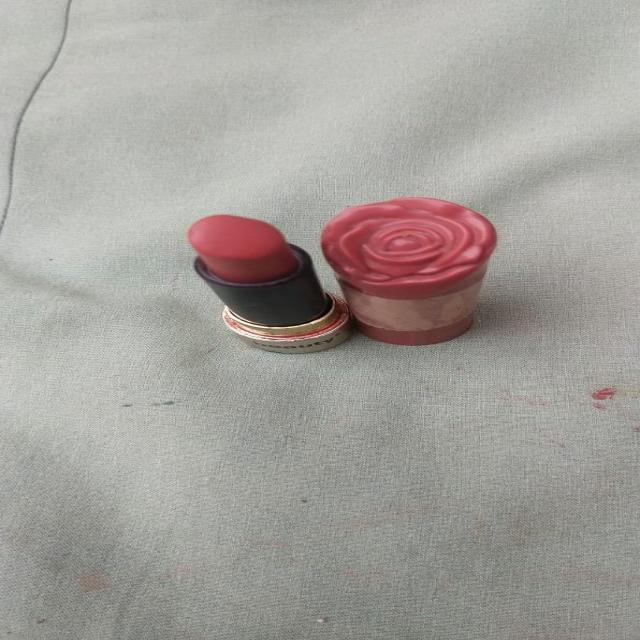lip stick: (140, 189, 359, 371)
